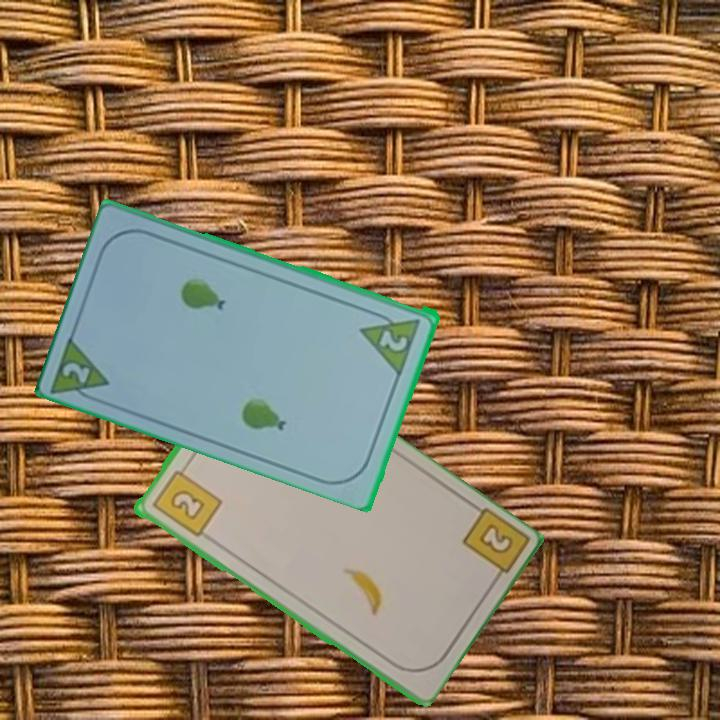2b: (457, 504, 529, 589), (148, 461, 224, 541)
2p: (49, 330, 114, 407), (357, 305, 424, 376)
